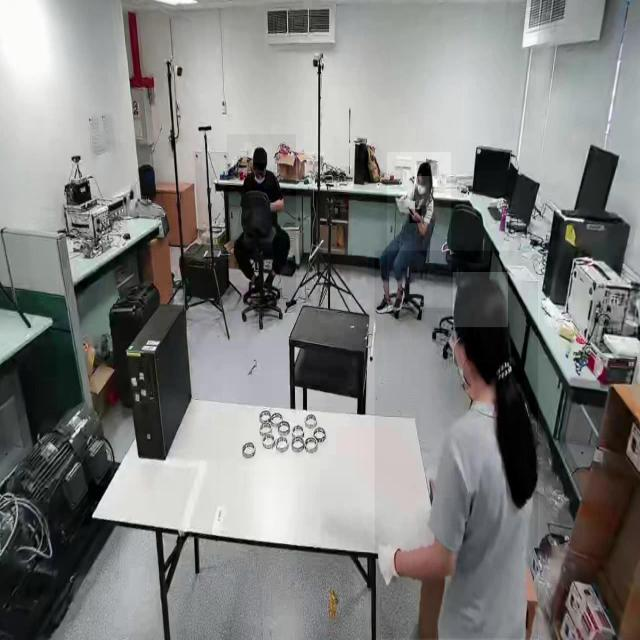face_mask: (416, 164, 430, 206)
hand_glove: (377, 532, 407, 598)
hand_noglove: (410, 209, 422, 224), (399, 192, 407, 203)
head_nohelmet: (452, 272, 508, 328), (252, 146, 267, 164), (417, 161, 431, 177)
person: (374, 251, 538, 639), (227, 134, 297, 312), (387, 152, 451, 308)
shoes: (374, 292, 394, 318), (392, 281, 406, 309)
